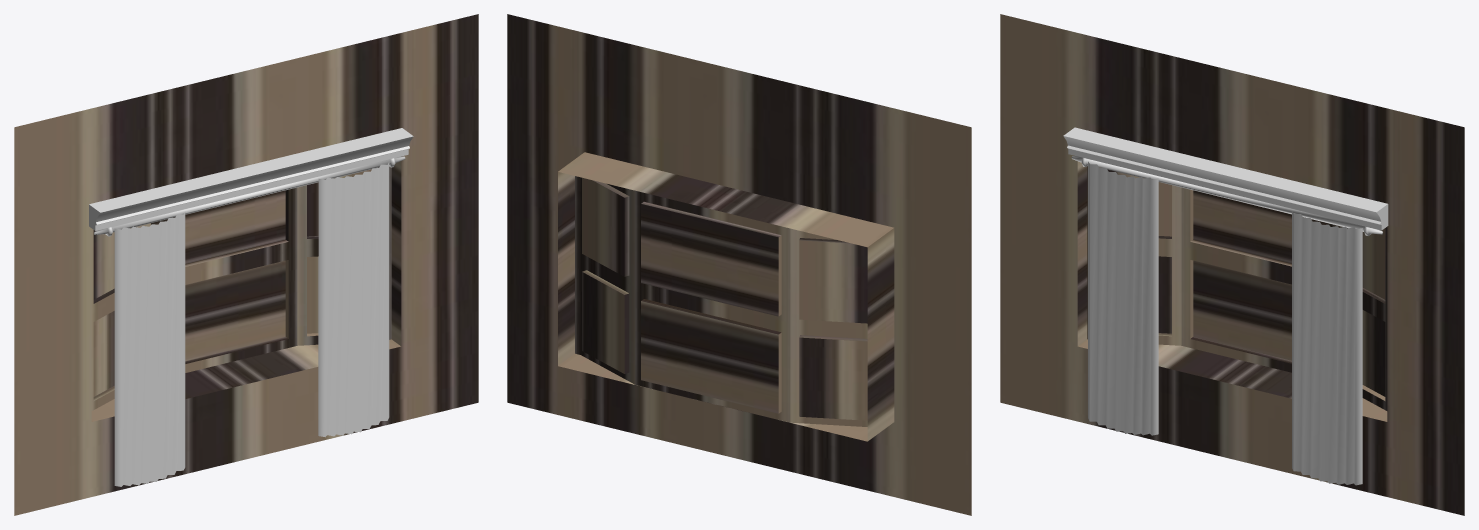
Rendered from bedroom_window.fbx.
3 renders of one model, left to right at view 1: azimuth 30°, elevation 25°; view 2: azimuth 150°, elevation 25°; view 3: azimuth 330°, elevation 25°, orthographic.
Parts seen in each view (by area): view 1: Wall_Window_hotelroom.002, Plane, Plane.002, Cube.171, Cylinder; view 2: Wall_Window_hotelroom.002; view 3: Wall_Window_hotelroom.002, Plane, Plane.002, Cube.171, Cylinder.
Boxes of the visible parts, bbox=[...] form: Wall_Window_hotelroom.002: bbox=[14, 14, 478, 515]; Plane: bbox=[318, 162, 389, 437]; Plane.002: bbox=[114, 212, 185, 486]; Cube.171: bbox=[89, 128, 413, 230]; Cylinder: bbox=[94, 156, 405, 236]; Wall_Window_hotelroom.002: bbox=[507, 14, 971, 515]; Wall_Window_hotelroom.002: bbox=[1000, 14, 1464, 515]; Plane: bbox=[1292, 211, 1362, 485]; Plane.002: bbox=[1088, 161, 1158, 435]; Cube.171: bbox=[1063, 127, 1388, 230]; Cylinder: bbox=[1071, 156, 1382, 235].
Size of the model in its own units: 500 by 400 by 76.97.
